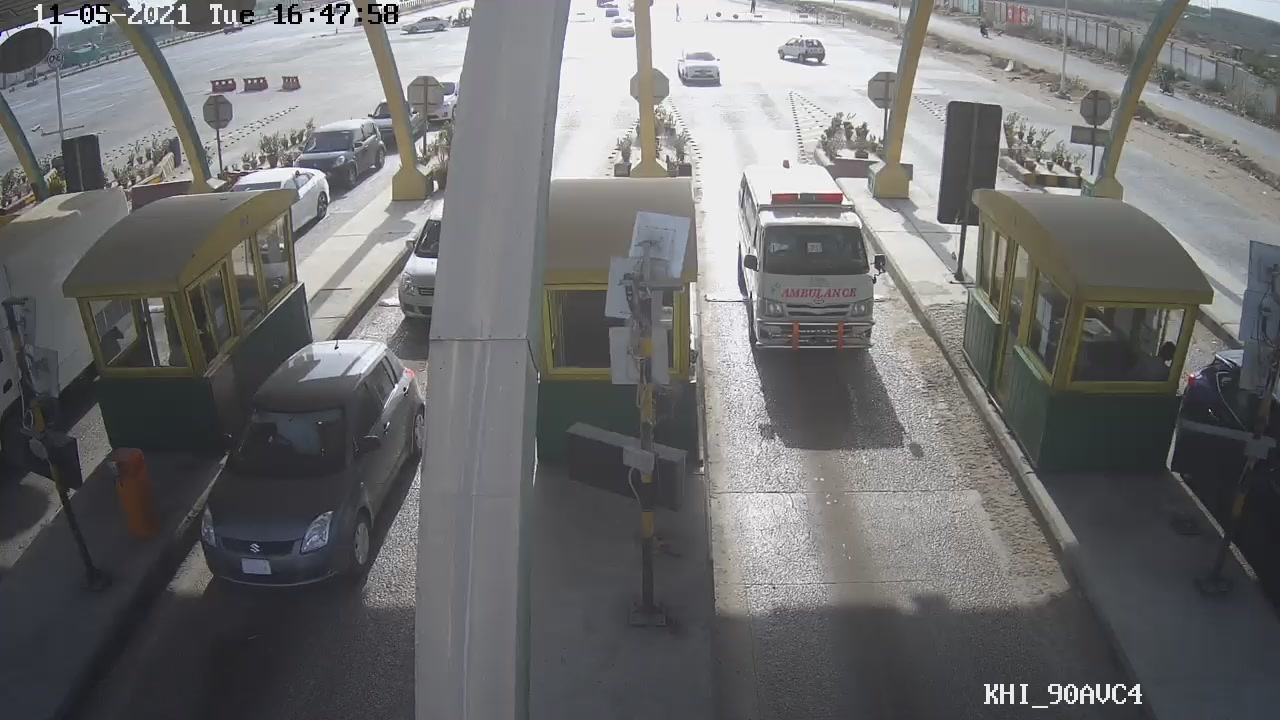F2: (728, 141, 895, 369)
